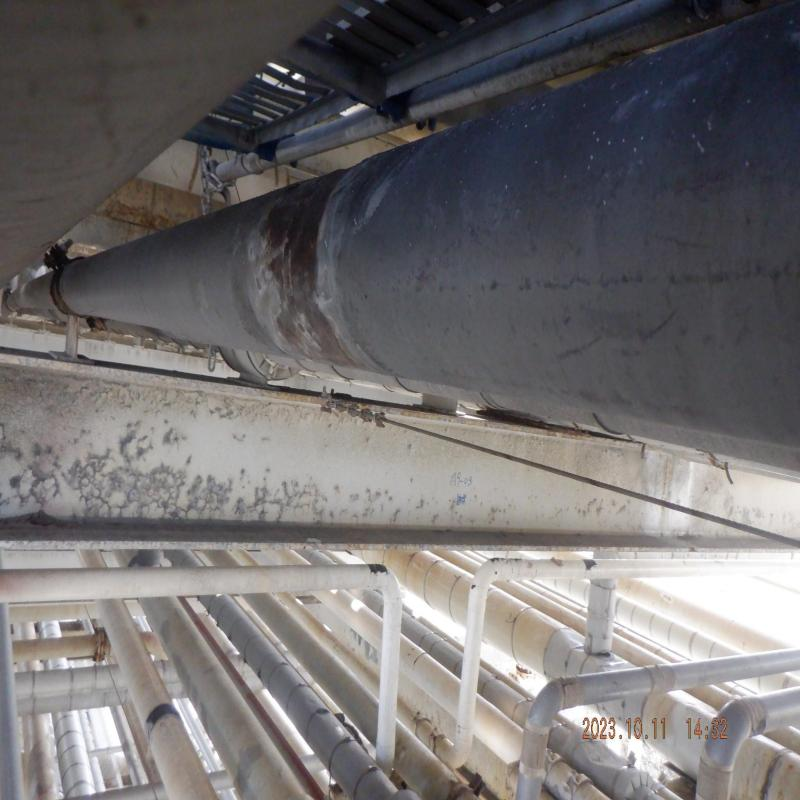corrosion: (268, 200, 320, 292)
